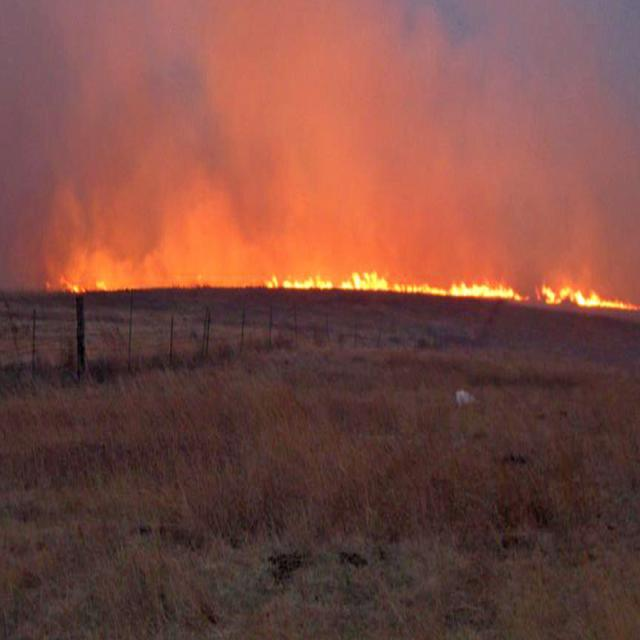Fire: (267, 266, 515, 317), (540, 270, 630, 313), (68, 276, 106, 298)
Smoke: (0, 2, 629, 276)
